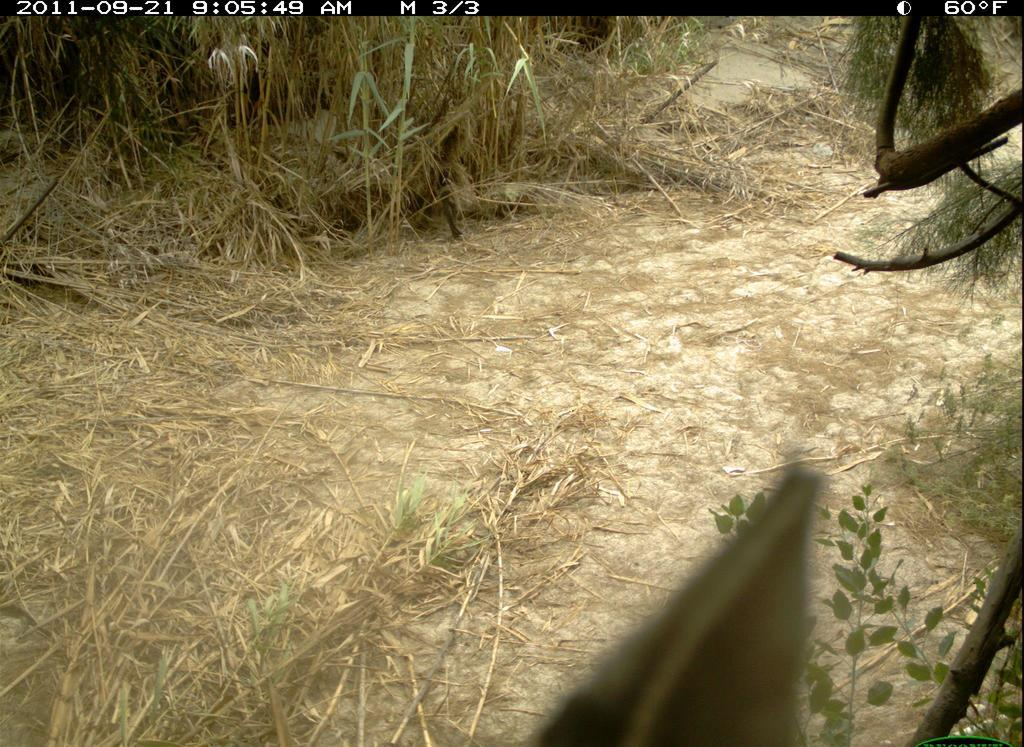bobcat: (390, 422, 909, 742)
